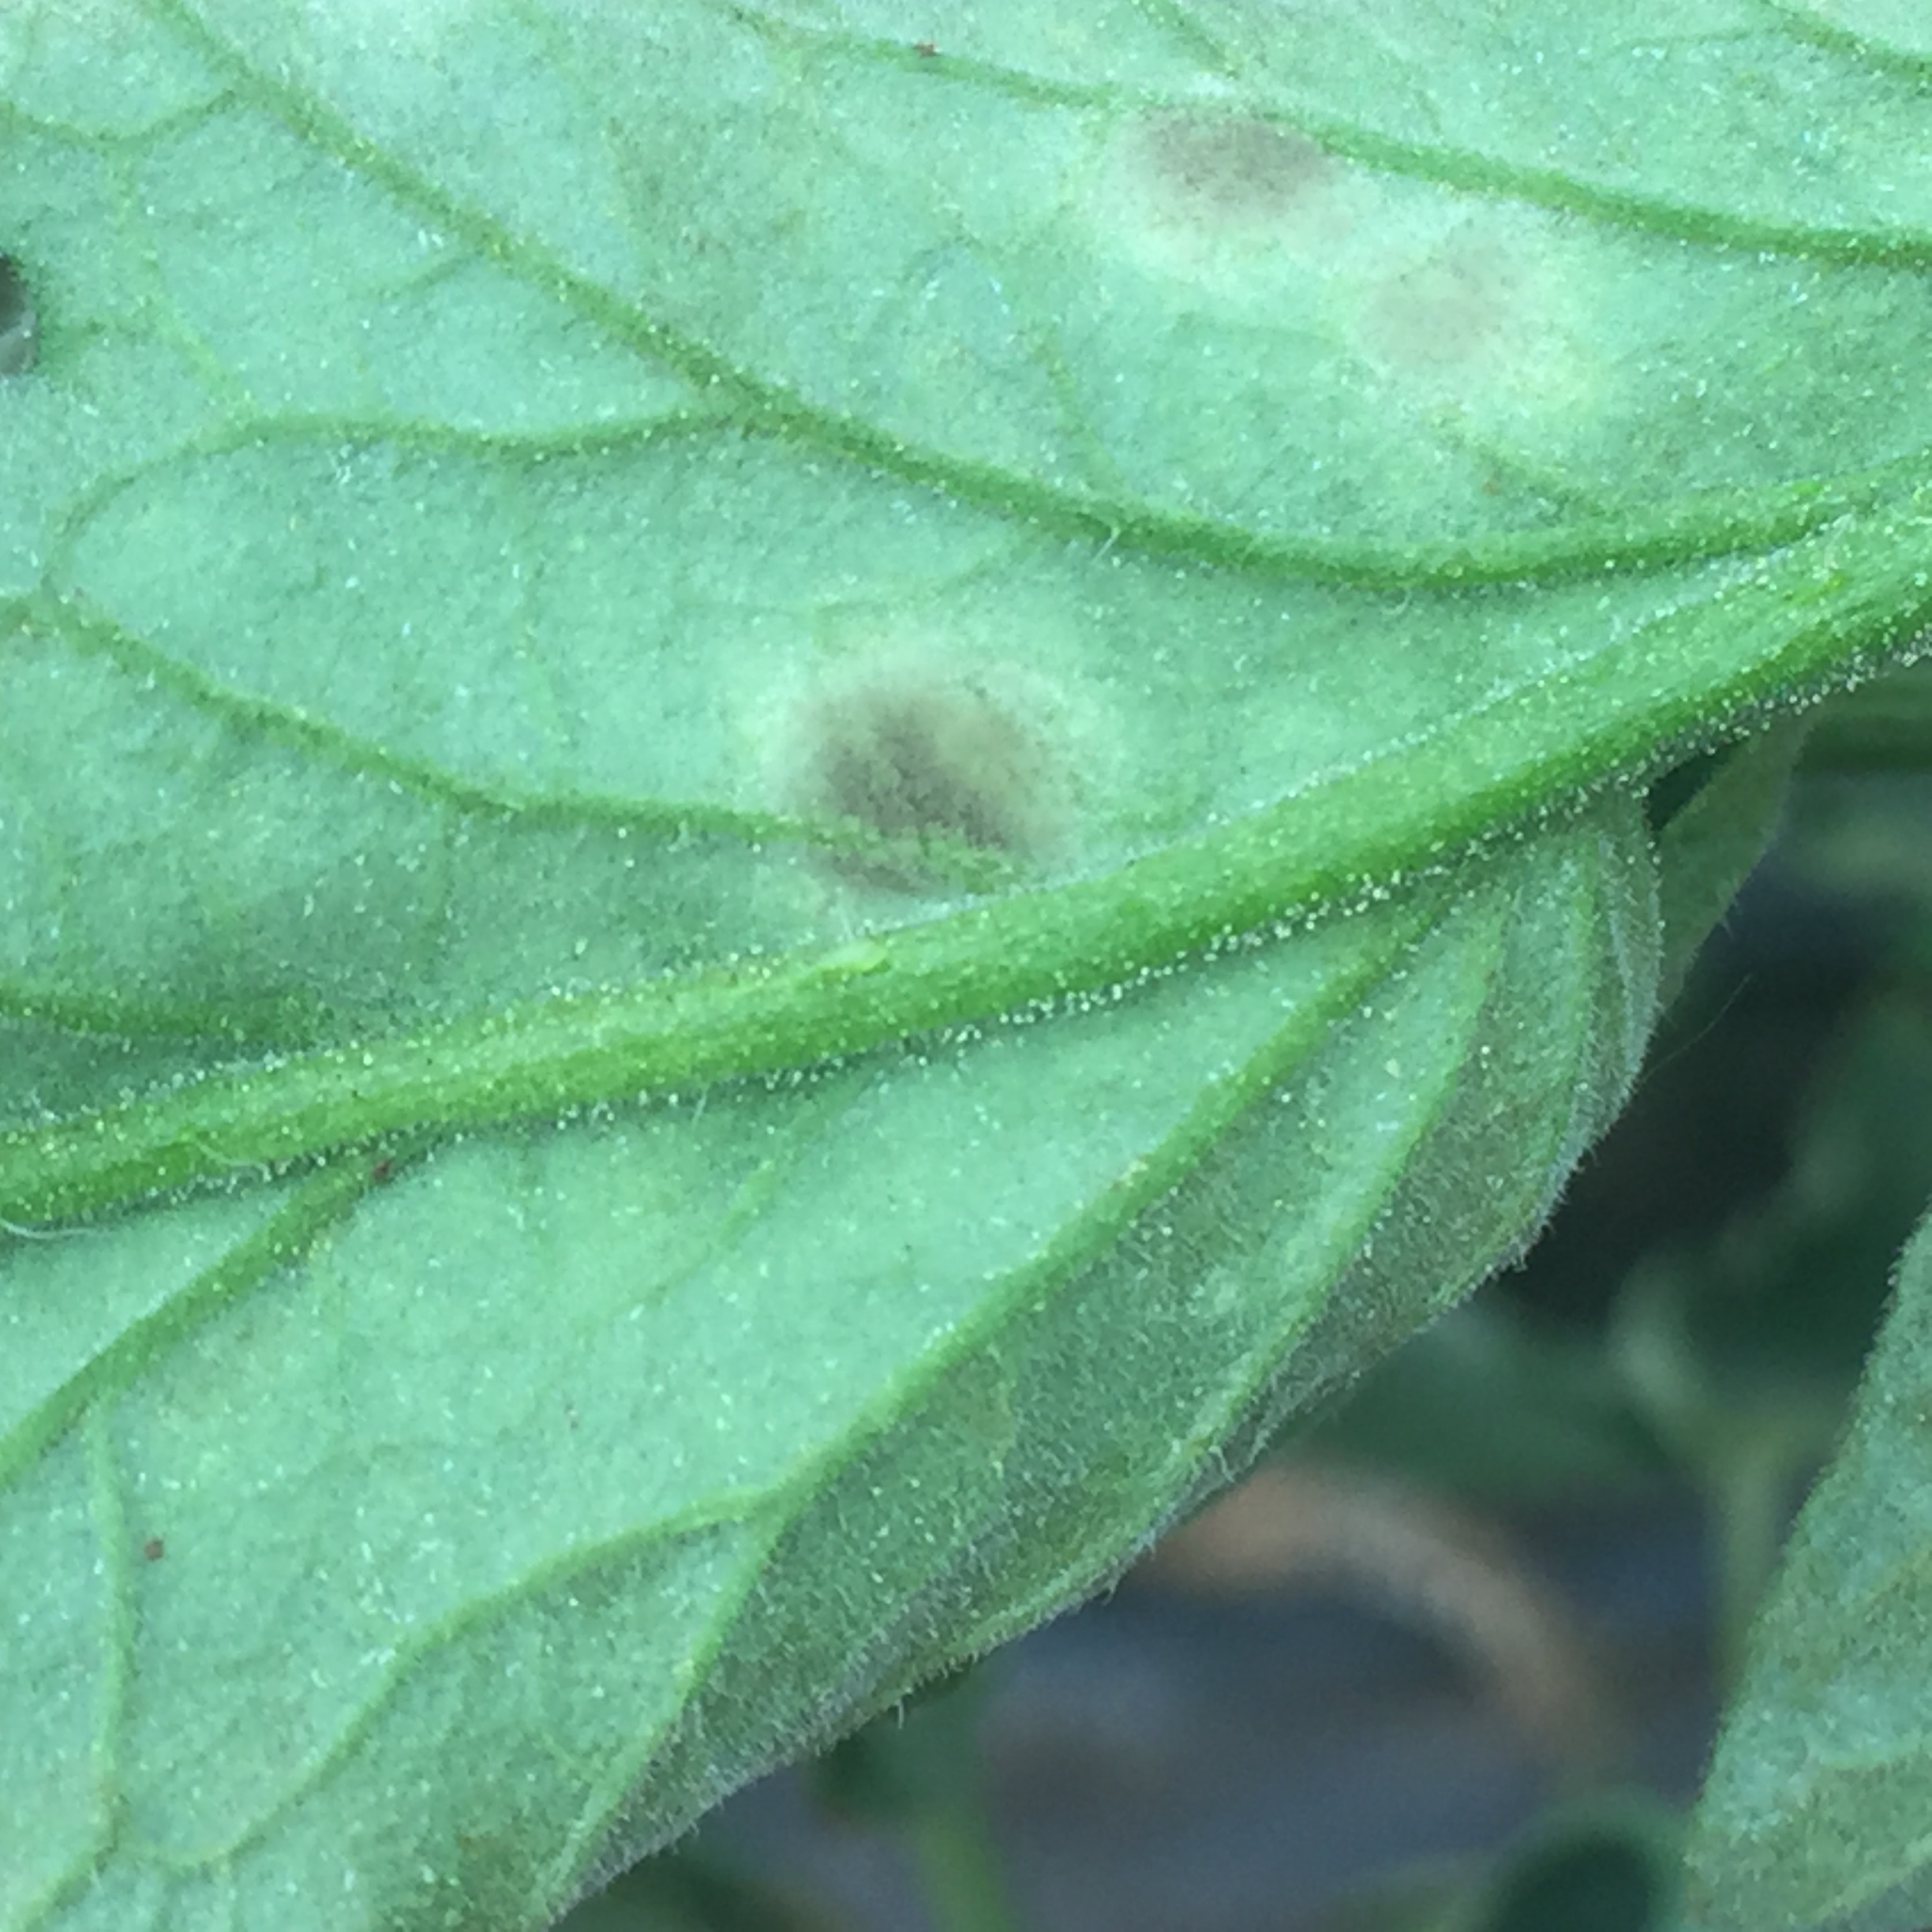negra: (1074, 53, 1621, 433), (761, 644, 1157, 943)
